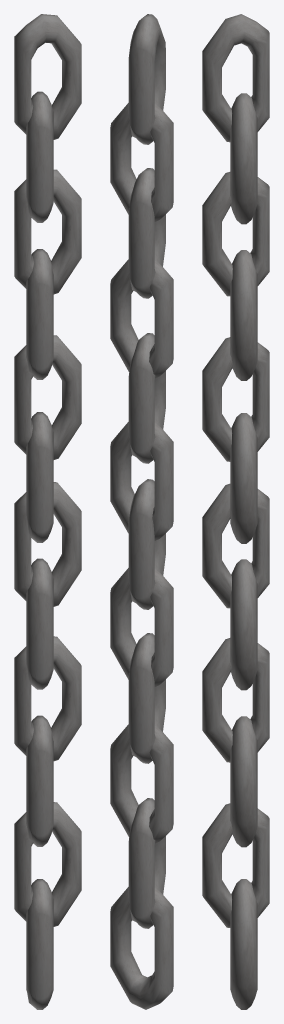
File: MedChain.fbx
3 views of the same model, side by side, from view 1: azimuth 90°, elevation 25°; view 2: azimuth 150°, elevation 25°; view 3: azimuth 270°, elevation 25° (orthographic).
Visible parts, largest first — view 1: Med_Chain; view 2: Med_Chain; view 3: Med_Chain.
Boxes of the visible parts, x1=… form: Med_Chain: x1=14, y1=14, x2=81, y2=1009; Med_Chain: x1=110, y1=14, x2=173, y2=1009; Med_Chain: x1=202, y1=14, x2=269, y2=1009.
Bounding box in the file's own units: 15.76 × 253 × 15.54.
